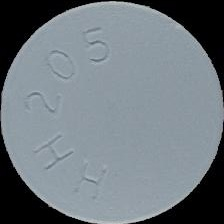43547-275: (0, 0, 224, 224)
